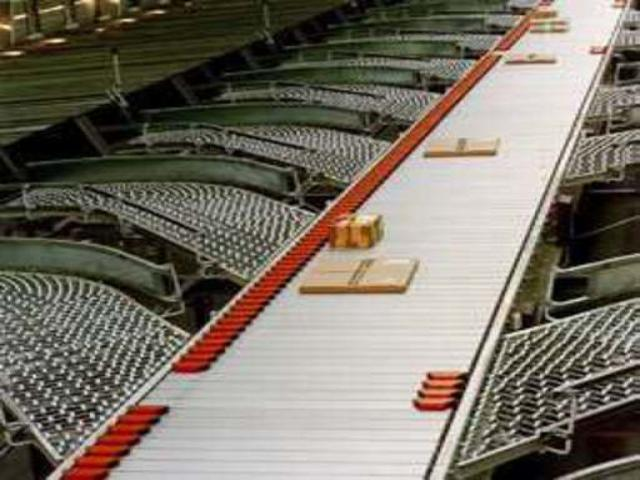conveyor: (41, 1, 634, 480)
